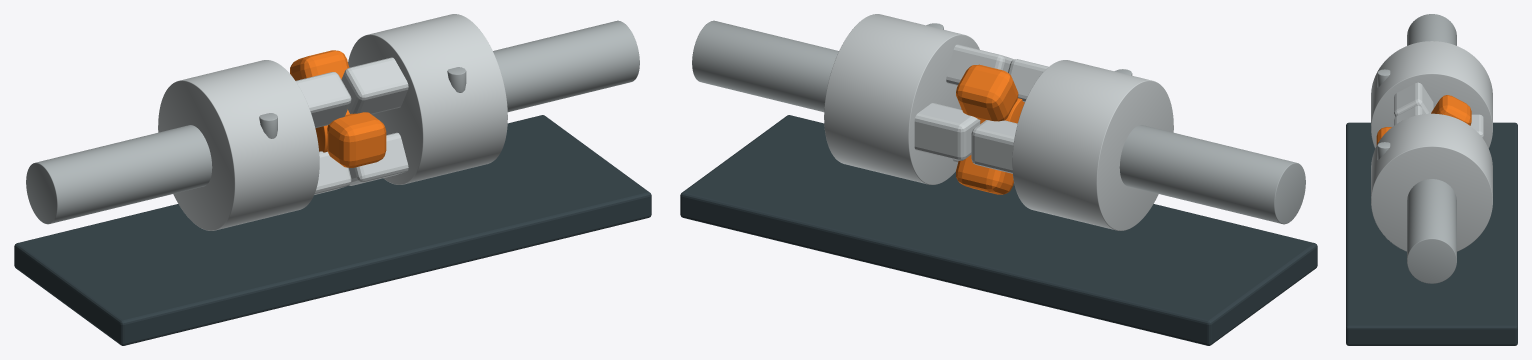
The model's file is flexible_jaw_coupling.glb.
3 renders of one model, left to right at view 1: azimuth 30°, elevation 25°; view 2: azimuth 150°, elevation 25°; view 3: azimuth 270°, elevation 25°, orthographic. The views are drawn at different scales.
Parts seen in each view (by area): view 1: DISPLAY_BASE, KIN_HUB_INPUT, KIN_HUB_OUTPUT, SHAFT_-1, SHAFT_1, JAW_1_120, SPIDER_LOBE_180, JAW_-1_120, JAW_1_240, SPIDER_LOBE_60, JAW_-1_240; view 2: DISPLAY_BASE, KIN_HUB_INPUT, KIN_HUB_OUTPUT, SHAFT_-1, SHAFT_1, JAW_1_0, SPIDER_LOBE_60, JAW_-1_0, SPIDER_LOBE_300, JAW_1_120, JAW_-1_120; view 3: DISPLAY_BASE, KIN_HUB_OUTPUT, KIN_HUB_INPUT, SHAFT_1, SHAFT_-1, JAW_-1_120, SPIDER_LOBE_60, JAW_1_120, JAW_-1_0, SETSCREW_-1, SETSCREW_1.
Boxes of the visible parts, left/top/right/bottom form: DISPLAY_BASE: left=14, top=115, right=651, bottom=345; KIN_HUB_INPUT: left=158, top=60, right=319, bottom=230; KIN_HUB_OUTPUT: left=348, top=14, right=507, bottom=184; SHAFT_-1: left=26, top=125, right=212, bottom=224; SHAFT_1: left=493, top=20, right=639, bottom=112; JAW_1_120: left=341, top=57, right=408, bottom=114; SPIDER_LOBE_180: left=327, top=112, right=386, bottom=167; JAW_-1_120: left=296, top=72, right=351, bottom=128; JAW_1_240: left=348, top=132, right=408, bottom=185; SPIDER_LOBE_60: left=290, top=50, right=349, bottom=80; JAW_-1_240: left=314, top=151, right=351, bottom=194; DISPLAY_BASE: left=680, top=115, right=1317, bottom=345; KIN_HUB_INPUT: left=1012, top=60, right=1173, bottom=230; KIN_HUB_OUTPUT: left=824, top=14, right=979, bottom=184; SHAFT_-1: left=1119, top=125, right=1305, bottom=224; SHAFT_1: left=692, top=20, right=838, bottom=112; JAW_1_0: left=914, top=103, right=980, bottom=160; SPIDER_LOBE_60: left=956, top=64, right=1018, bottom=121; JAW_-1_0: left=971, top=120, right=1017, bottom=173; SPIDER_LOBE_300: left=956, top=155, right=1013, bottom=194; JAW_1_120: left=946, top=44, right=1013, bottom=86; JAW_-1_120: left=1008, top=59, right=1048, bottom=102; DISPLAY_BASE: left=1346, top=122, right=1517, bottom=345; KIN_HUB_OUTPUT: left=1371, top=113, right=1492, bottom=251; KIN_HUB_INPUT: left=1371, top=41, right=1492, bottom=148; SHAFT_1: left=1407, top=179, right=1456, bottom=283; SHAFT_-1: left=1407, top=14, right=1456, bottom=45; JAW_-1_120: left=1394, top=82, right=1433, bottom=116; SPIDER_LOBE_60: left=1431, top=95, right=1471, bottom=125; JAW_1_120: left=1394, top=105, right=1425, bottom=125; JAW_-1_0: left=1470, top=114, right=1483, bottom=139; SETSCREW_-1: left=1377, top=69, right=1390, bottom=87; SETSCREW_1: left=1377, top=142, right=1390, bottom=160.
Size of the model in its own units: 1.92 by 0.6 by 0.62.
